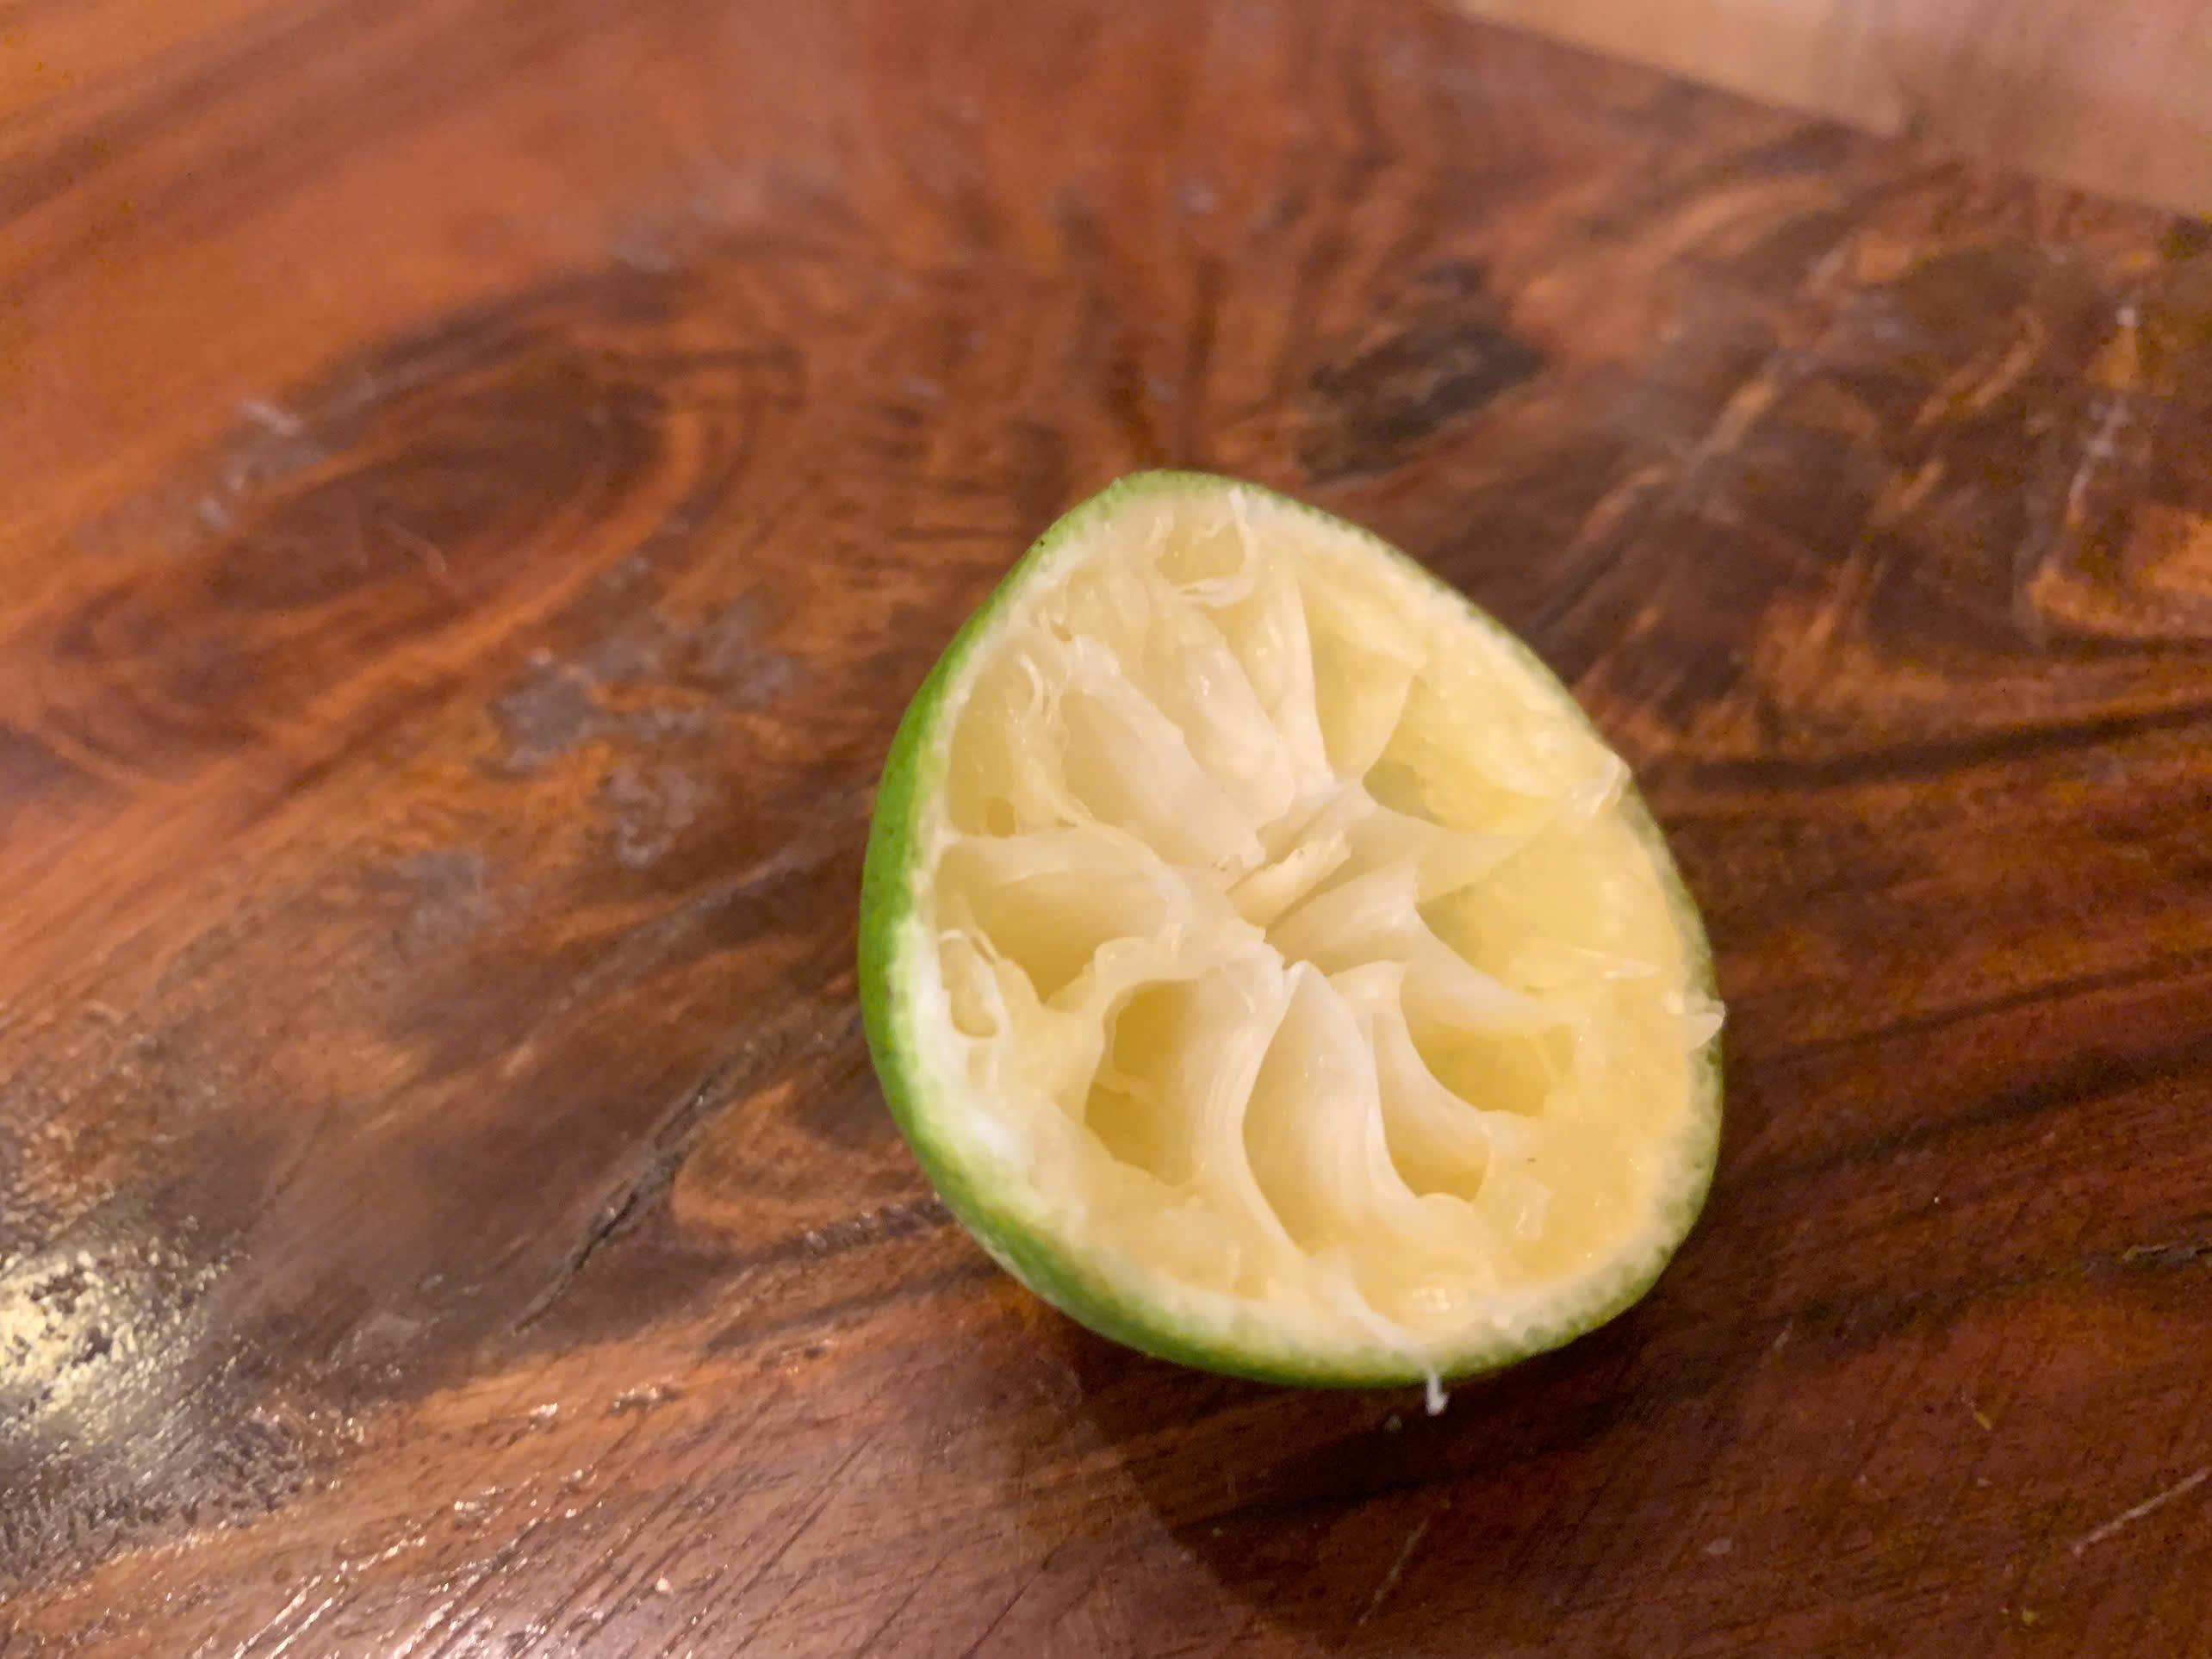Huu co: (864, 469, 1723, 1380)
